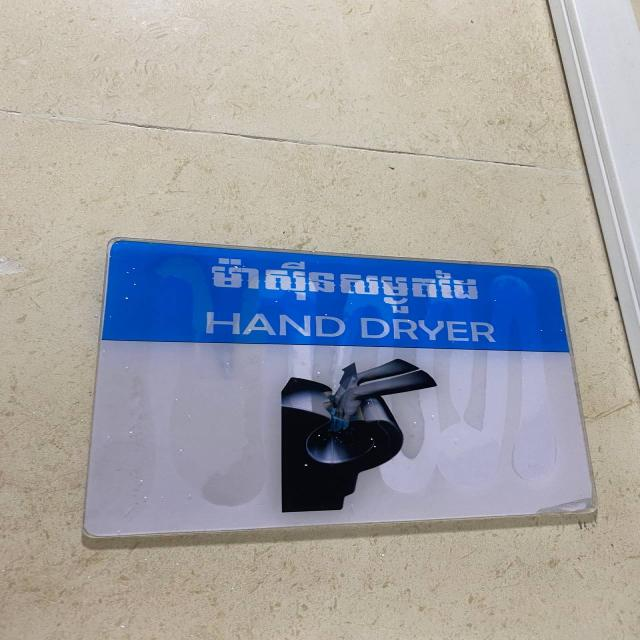Yolov11kh: (200, 244, 502, 324)
